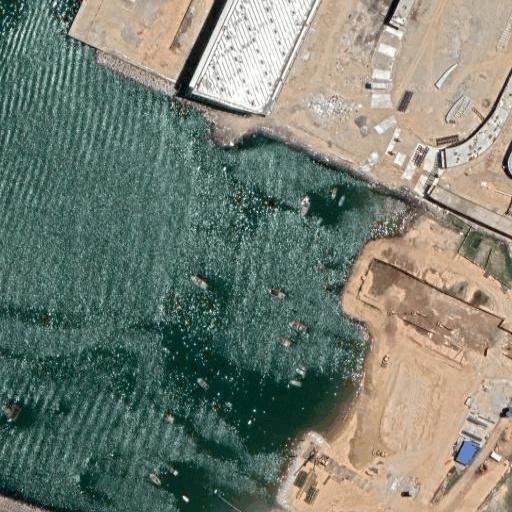building: (455, 439, 479, 466), (490, 451, 504, 463), (506, 411, 511, 416), (509, 407, 512, 412)
